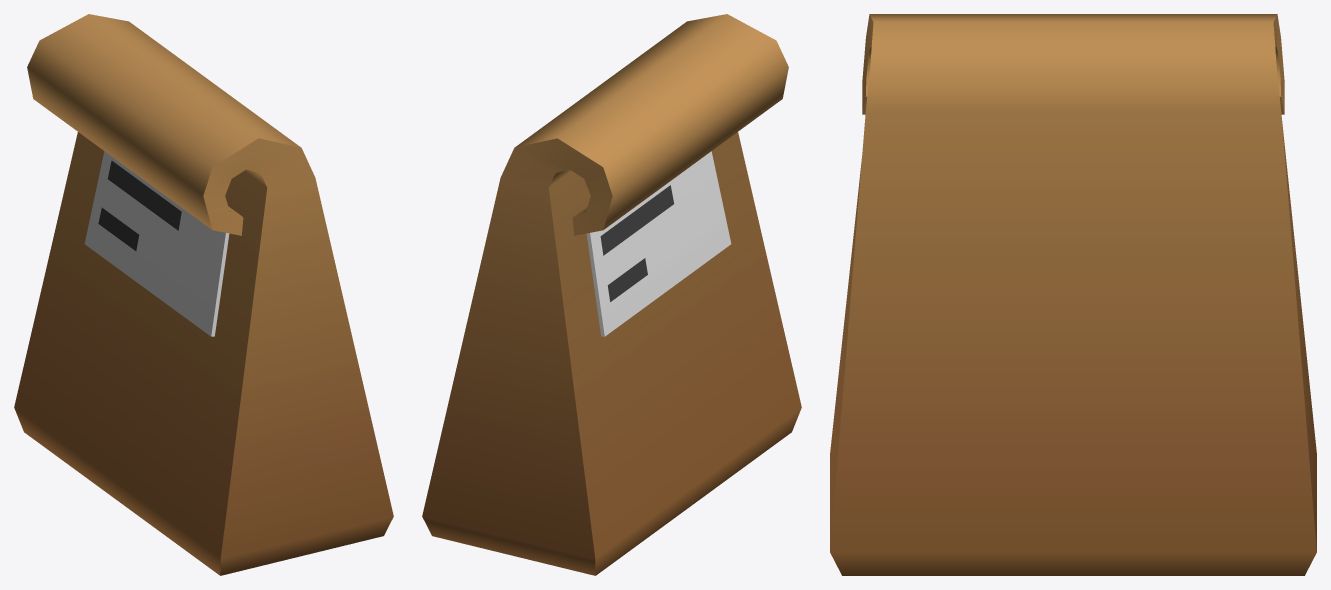
File: BagFood_2_C.fbx
3 renders of one model, left to right at view 1: azimuth 30°, elevation 25°; view 2: azimuth 150°, elevation 25°; view 3: azimuth 270°, elevation 25°, orthographic. The views are drawn at different scales.
Parts seen in each view (by area): view 1: BagFood_2_C; view 2: BagFood_2_C; view 3: BagFood_2_C.
Part boxes in pixels (<box>): BagFood_2_C: <box>14,14,393,575</box>; BagFood_2_C: <box>422,14,801,575</box>; BagFood_2_C: <box>830,14,1316,575</box>.
Size of the model in its own units: 15.18 by 35.13 by 30.98.
